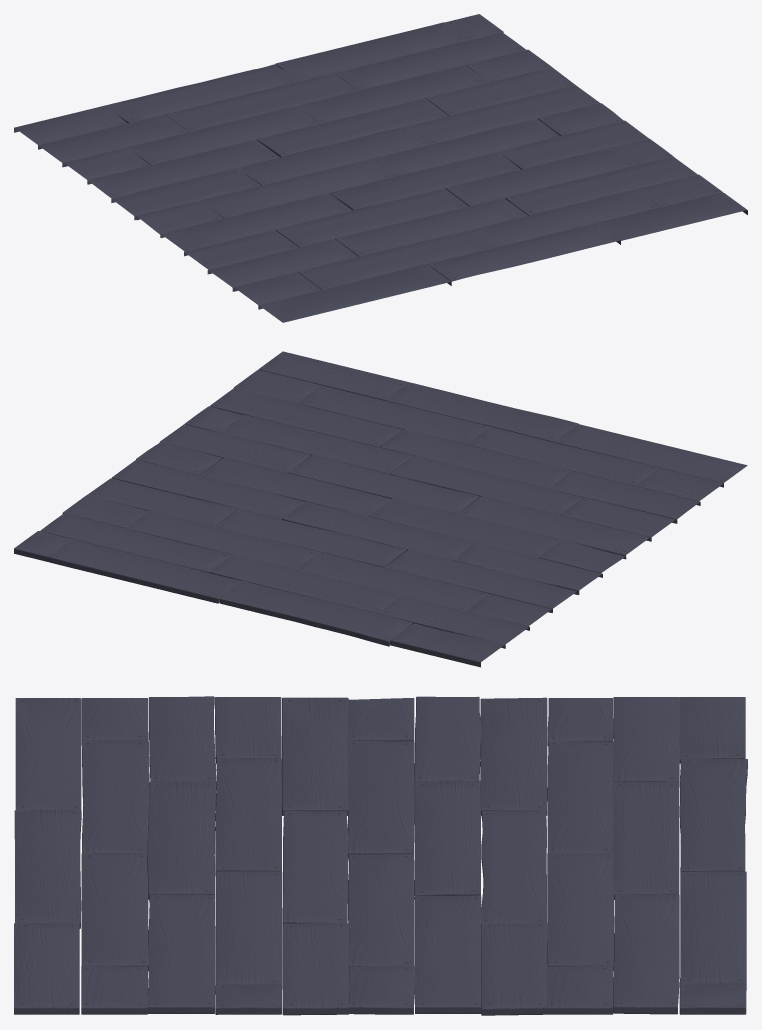
File: Planks.gltf
The picture shows the model from 3 angles, top to bottom: view 1: azimuth 30°, elevation 25°; view 2: azimuth 150°, elevation 25°; view 3: azimuth 270°, elevation 25°; orthographic projection. The views are drawn at different scales.
Visible parts, largest first — view 1: Planks.001; view 2: Planks.001; view 3: Planks.001.
Boxes of the visible parts, left/top/right/bottom form: Planks.001: left=14, top=14, right=747, bottom=322; Planks.001: left=14, top=351, right=747, bottom=667; Planks.001: left=14, top=696, right=747, bottom=1015.
Bounding box in the file's own units: 50.39 × 0.7099 × 50.27.
1 material, 1 textured.
